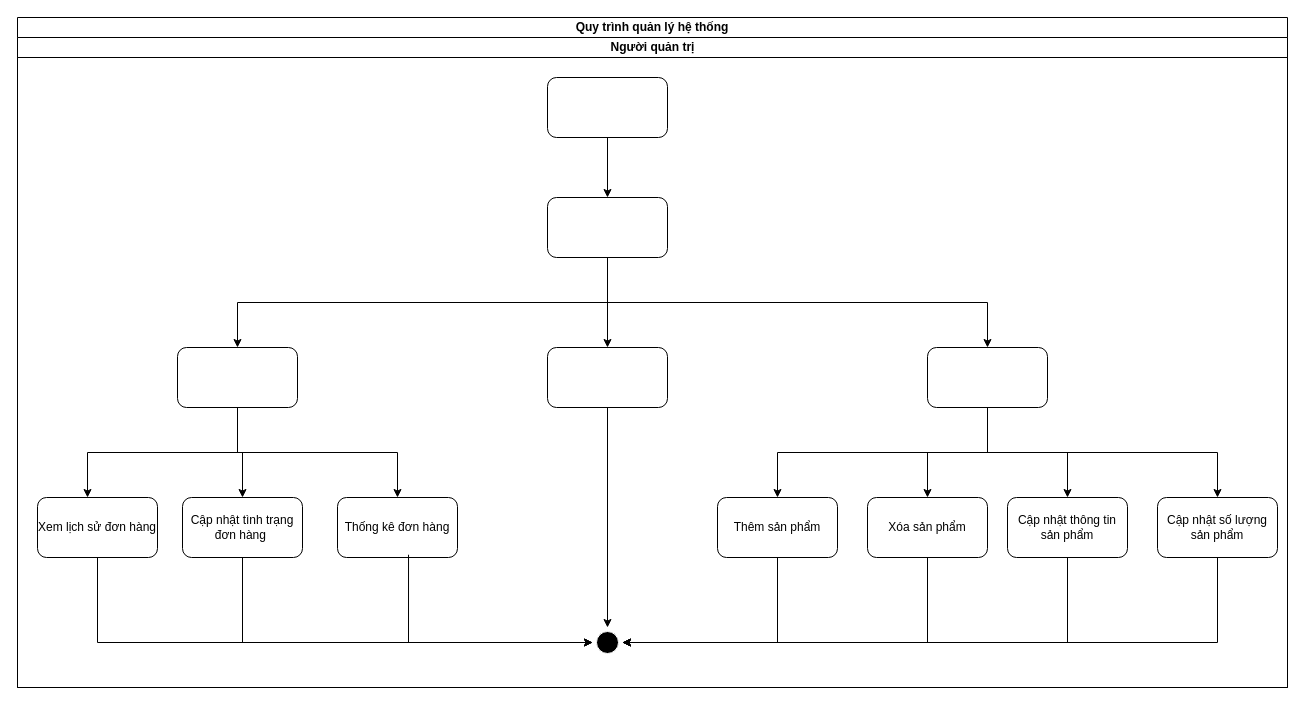
The diagram is 1305 pixels wide and 705 high, and some of its shapes have lost their labels. Each missing label, with the centre of its shape:
"Người quản trị thực hiện quản trị các thao tác quản trị hệ thống" goes at pixel 607 227.
"Người quản trị đăng nhập vào tài khoản quản trì" goes at pixel 607 107.
"Quản lý sản phẩm" goes at pixel 987 377.
"Quản lý thông tin tài khoản khách hàng" goes at pixel 607 377.
"Quản lý đơn hàng" goes at pixel 237 377.
